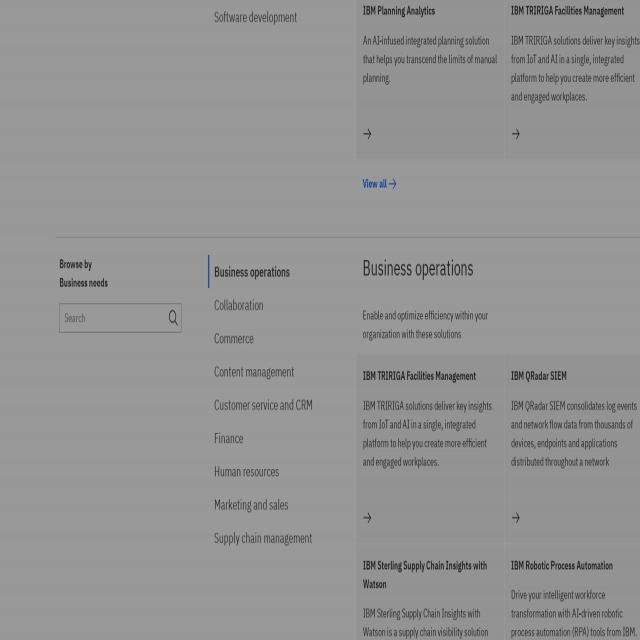button: (356, 354, 505, 544), (508, 354, 640, 539), (355, 0, 504, 159), (505, 0, 640, 158), (356, 546, 504, 640), (505, 543, 640, 640), (208, 321, 348, 355), (208, 421, 348, 455), (208, 454, 348, 488), (208, 0, 348, 33), (208, 254, 348, 287), (208, 288, 348, 321), (208, 355, 348, 388), (208, 388, 348, 421), (208, 488, 348, 521), (208, 521, 348, 554), (164, 303, 180, 332)
field: (60, 303, 182, 332)
